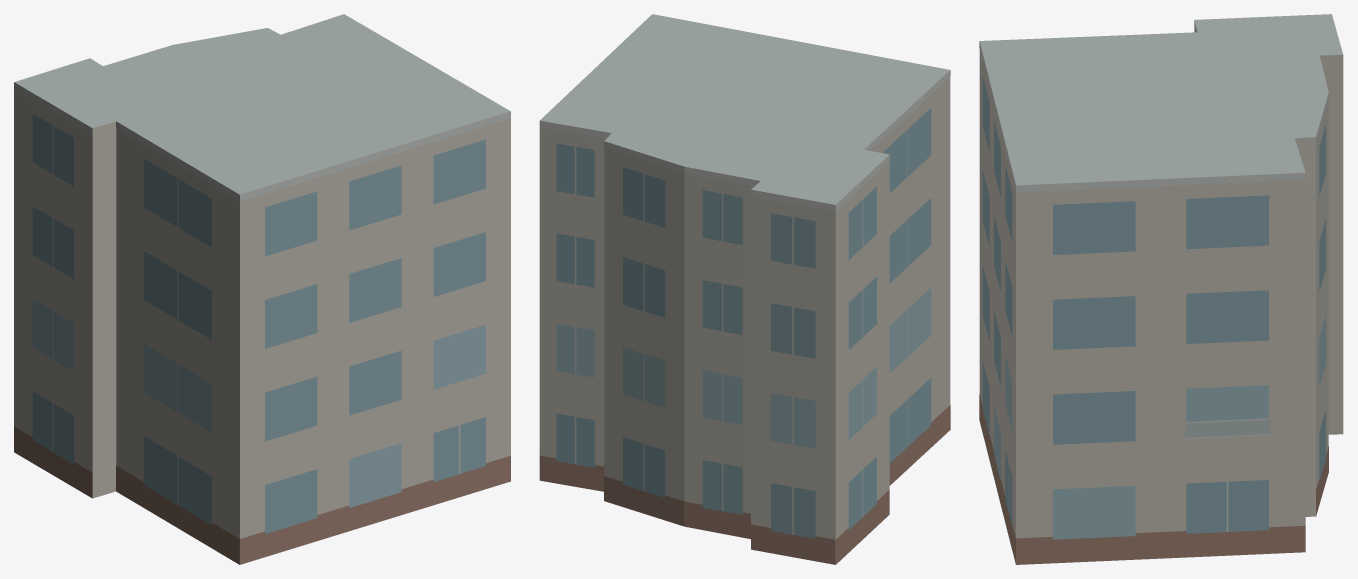
File: survey-upis-32510326.glb
The picture shows the model from 3 angles, left to right: view 1: azimuth 30°, elevation 25°; view 2: azimuth 150°, elevation 25°; view 3: azimuth 270°, elevation 25°; orthographic projection. The views are drawn at different scales.
Parts seen in each view (by area): view 1: survey-upis-32510326.tmp; view 2: survey-upis-32510326.tmp; view 3: survey-upis-32510326.tmp.
Part boxes in pixels (bbox=[...]): survey-upis-32510326.tmp: bbox=[14, 14, 510, 564]; survey-upis-32510326.tmp: bbox=[539, 14, 950, 564]; survey-upis-32510326.tmp: bbox=[979, 14, 1343, 564].
Bounding box in the file's own units: 12.31 × 12.7 × 11.04.
